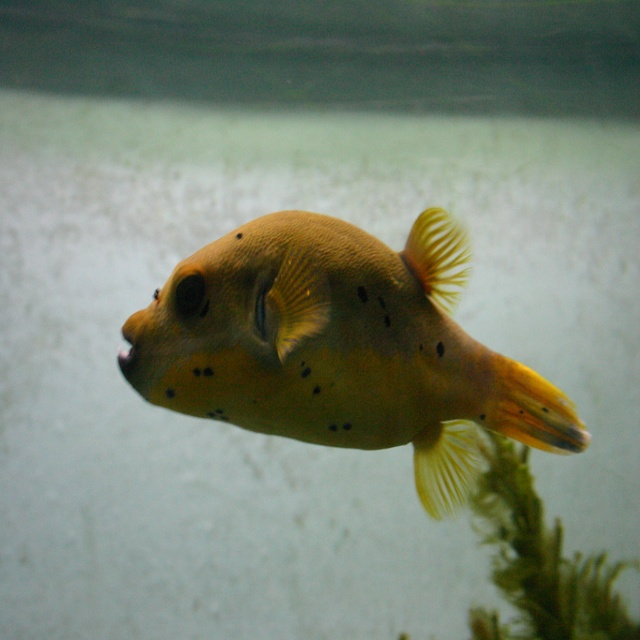Fish: (117, 206, 592, 526)
